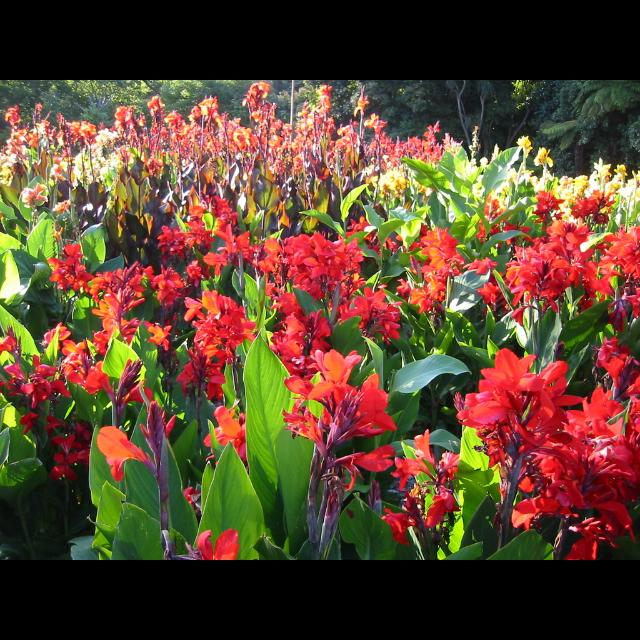Flower: (0, 80, 638, 558), (464, 354, 552, 446)
